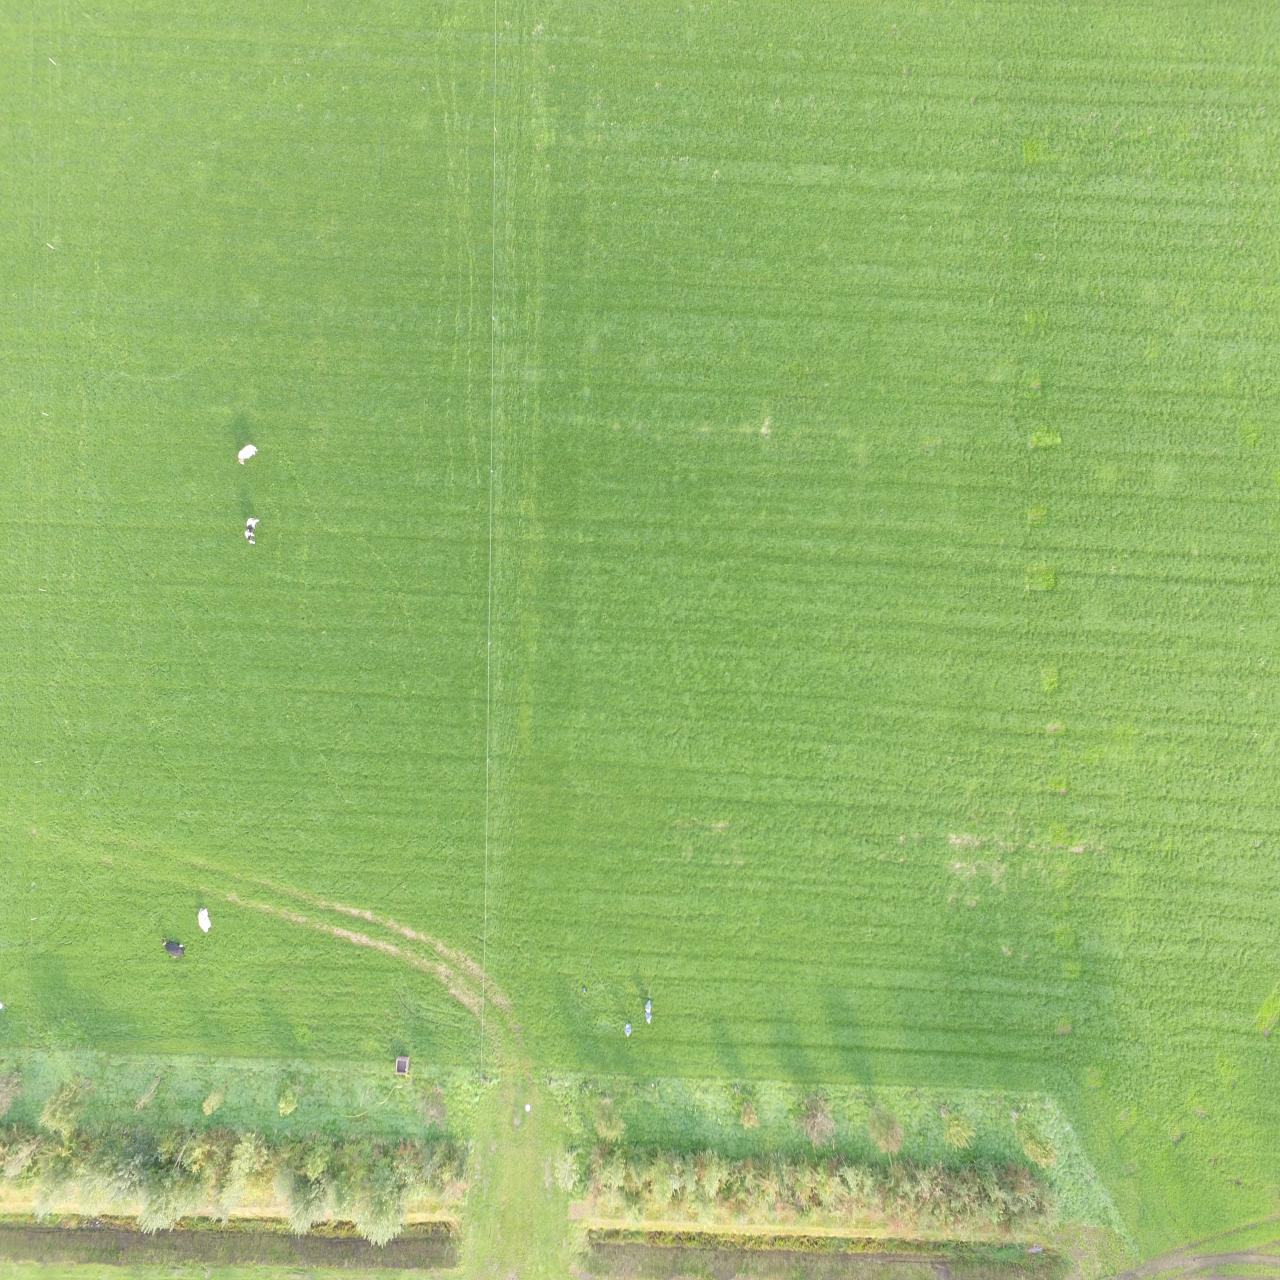cow: (159, 934, 185, 960), (234, 442, 259, 465), (245, 513, 261, 547), (197, 905, 212, 934)
